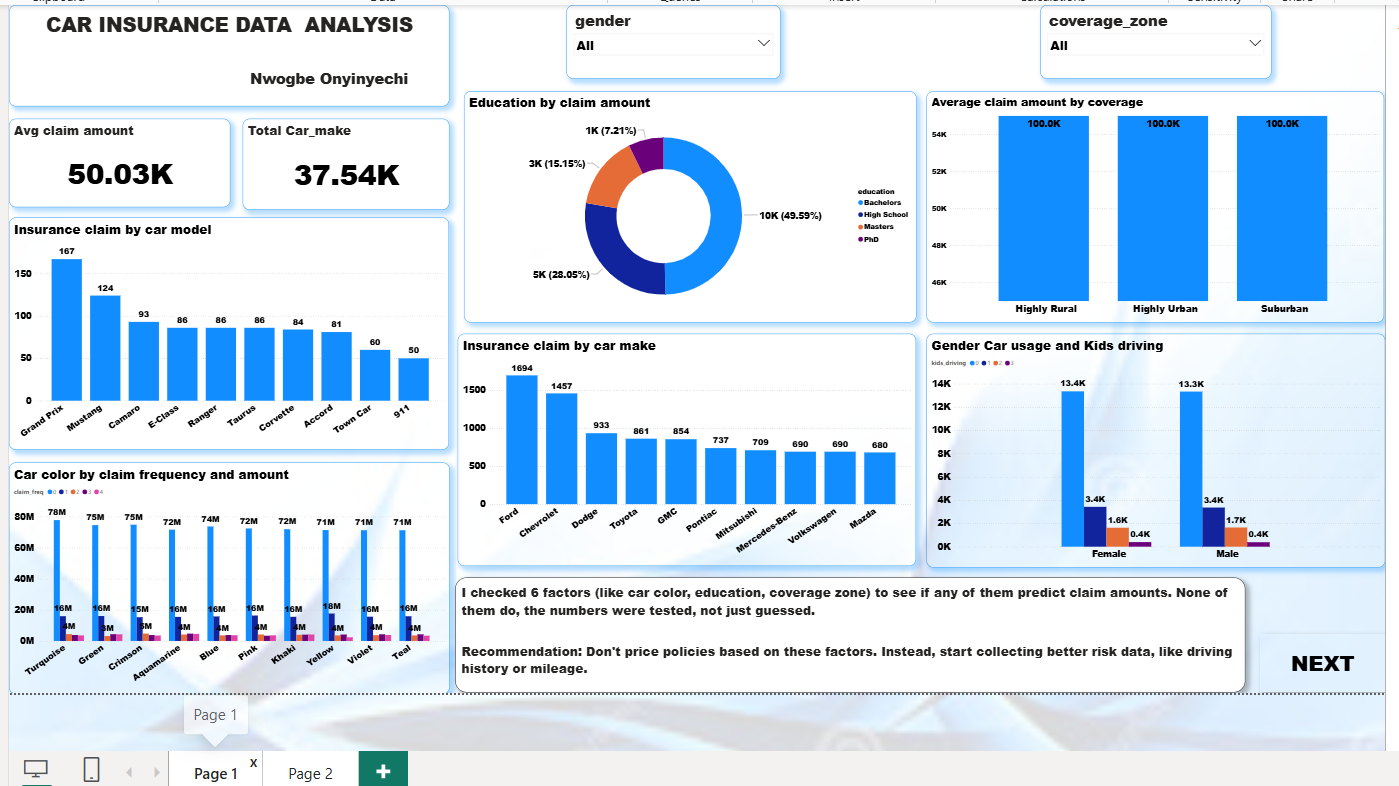

The page's visual inventory and layout, read from the dashboard file:
{"tool":"powerbi","page":{"name":"Page 1","canvas":[3000,1500],"ordinal":0},"visuals":[{"type":"clusteredColumnChart","title":"Gender Car usage and Kids driving","fields":{"Category":["Insurance Policies.gender"],"Series":["Insurance Policies.kids_driving"],"Y":["CountNonNull(Insurance Policies.car_use)"]},"box":[2000.4,716.8,1000.2,509.6],"z":0},{"type":"clusteredColumnChart","title":"Insurance claim by car make","fields":{"Category":["Insurance Policies.car_make"],"Y":["Sum(Insurance Policies.claim_freq)"]},"box":[978.4,716.8,999.1,506.2],"z":1000},{"type":"clusteredColumnChart","title":"Insurance claim by car model","fields":{"Category":["Insurance Policies.car_model"],"Y":["Sum(Insurance Policies.claim_freq)"]},"box":[0,463.4,958.9,506.2],"z":2000},{"type":"donutChart","title":"Education by claim amount","fields":{"Category":["Insurance Policies.education"],"Y":["Sum(Insurance Policies.claim_freq)"]},"box":[992,188,986.6,504.2],"z":3000},{"type":"clusteredColumnChart","title":"Car color by claim frequency and amount","fields":{"Category":["Insurance Policies.car_color"],"Series":["Insurance Policies.claim_freq"],"Y":["Sum(Insurance Policies.claim_amt)"]},"box":[0,996.1,960.4,504.4],"z":4000},{"type":"clusteredColumnChart","title":"Average claim amount by coverage","fields":{"Category":["Insurance Policies.coverage_zone"],"Y":["Avg(Insurance_Policies.claim_amt)"]},"box":[2000.4,188,997.5,504.2],"z":5000},{"type":"card","title":"Total Car_make","fields":{"Values":["CountNonNull(Insurance Policies.car_make)"]},"box":[508.9,249.1,450,198.2],"z":6000},{"type":"card","title":"Avg claim amount","fields":{"Values":["Insurance_Policies.Avg Claim Amount"]},"box":[0,249.1,482.1,192.9],"z":7000},{"type":"slicer","fields":{"Values":["Insurance Policies.coverage_zone"]},"box":[2248.4,0,504.2,160.8],"z":8000},{"type":"slicer","fields":{"Values":["Insurance Policies.gender"]},"box":[1215.5,0,466,160.8],"z":9000},{"type":"textbox","box":[0,0,960,221],"z":10000},{"type":"actionButton","box":[2727.5,1370.8,272.5,128.1],"z":11000},{"type":"textbox","box":[972.9,1248.2,1722.4,250.7],"z":12000}]}

Visuals, with their boxes on the page's 3000x1500 design canvas (x1, y1, x2, y2). These are canvas units, not pixel positions in the 1399x786 screenshot, which may show the page scaled, cropped or inside an application window:
"Gender Car usage and Kids driving" clusteredColumnChart: bbox(2000, 717, 3001, 1226)
"Insurance claim by car make" clusteredColumnChart: bbox(978, 717, 1978, 1223)
"Insurance claim by car model" clusteredColumnChart: bbox(0, 463, 959, 970)
"Education by claim amount" donutChart: bbox(992, 188, 1979, 692)
"Car color by claim frequency and amount" clusteredColumnChart: bbox(0, 996, 960, 1500)
"Average claim amount by coverage" clusteredColumnChart: bbox(2000, 188, 2998, 692)
"Total Car_make" card: bbox(509, 249, 959, 447)
"Avg claim amount" card: bbox(0, 249, 482, 442)
slicer - Insurance Policies.coverage_zone: bbox(2248, 0, 2753, 161)
slicer - Insurance Policies.gender: bbox(1216, 0, 1682, 161)
textbox: bbox(0, 0, 960, 221)
actionButton: bbox(2728, 1371, 3000, 1499)
textbox: bbox(973, 1248, 2695, 1499)
